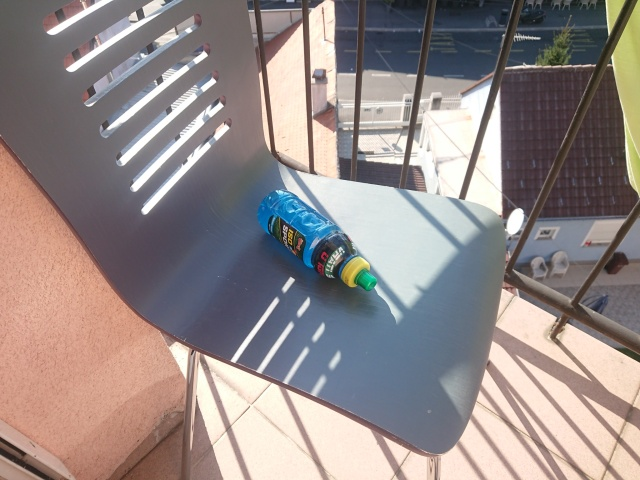Vindi Iso Sport Forest Strawberries 500mL: (256, 187, 378, 292)
